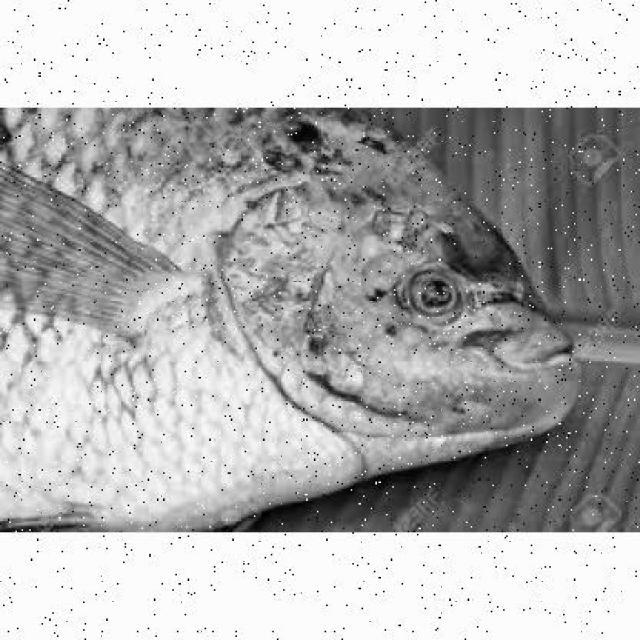gurame: (0, 104, 578, 521)
